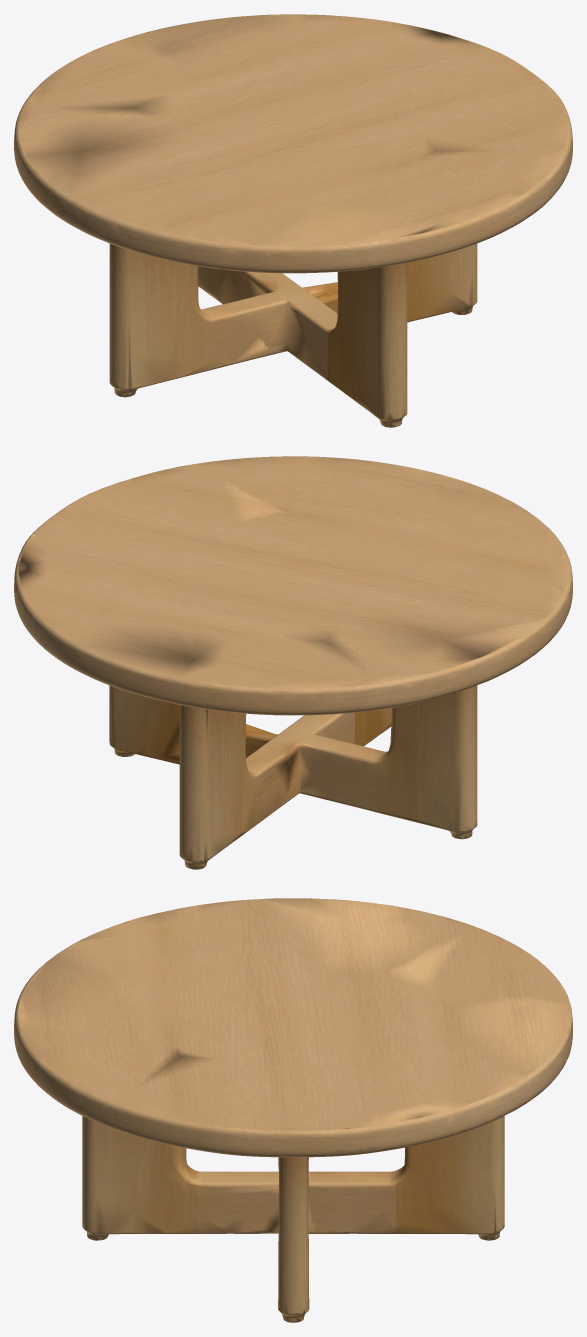
The model's file is tableplain.glb.
The picture shows the model from 3 angles, top to bottom: view 1: azimuth 30°, elevation 25°; view 2: azimuth 150°, elevation 25°; view 3: azimuth 270°, elevation 25°; orthographic projection.
Visible parts, largest first — view 1: node_0; view 2: node_0; view 3: node_0.
Part boxes in pixels (x1,y1,x2,y2): node_0: (14, 14, 572, 427); node_0: (14, 456, 572, 869); node_0: (14, 898, 572, 1322).
Bounding box in the file's own units: 1.1 × 0.4829 × 1.1.
1 material, 1 textured.
